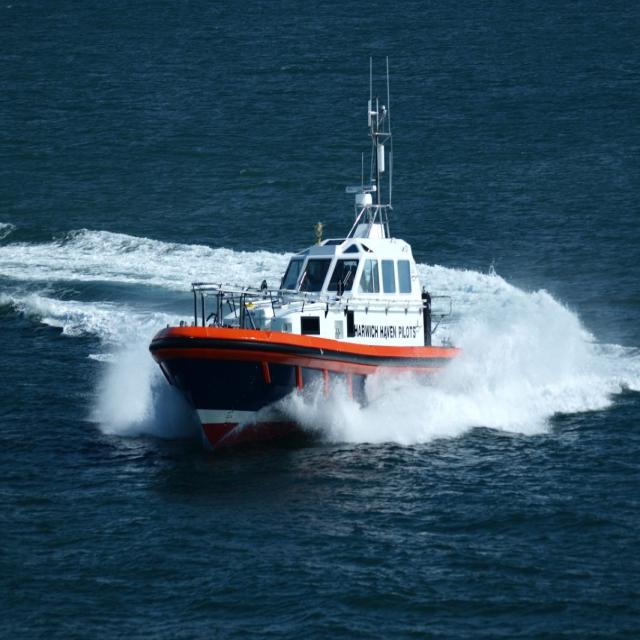houseboat: (147, 94, 458, 444)
